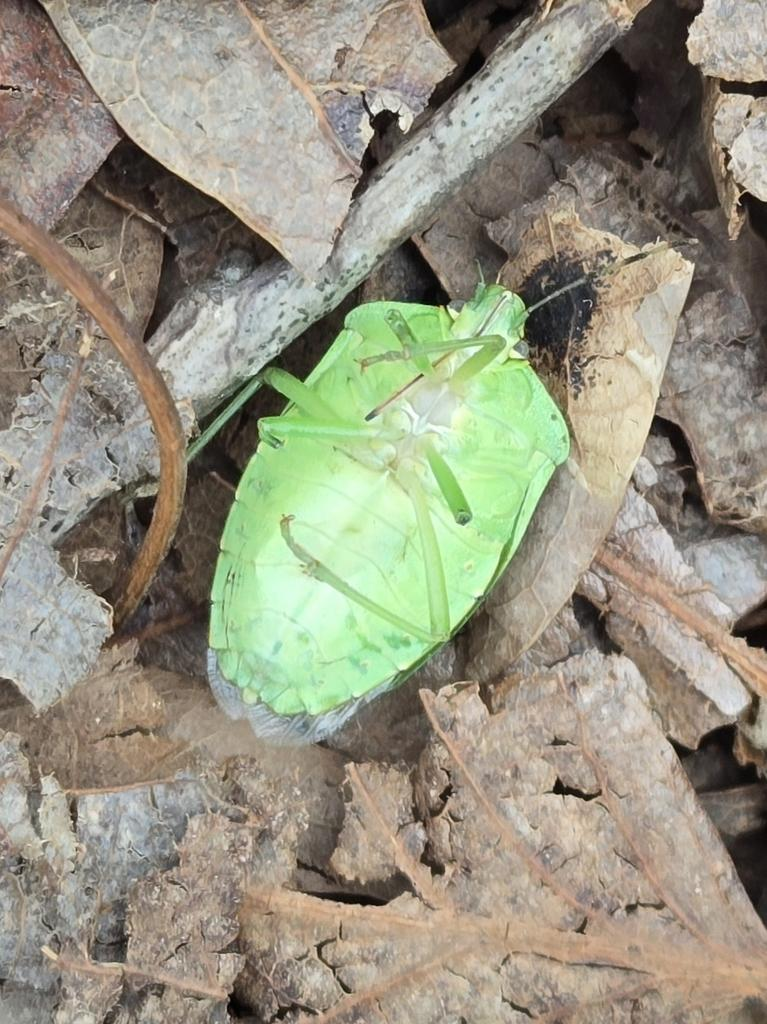stink_bugs: (114, 162, 684, 807)
